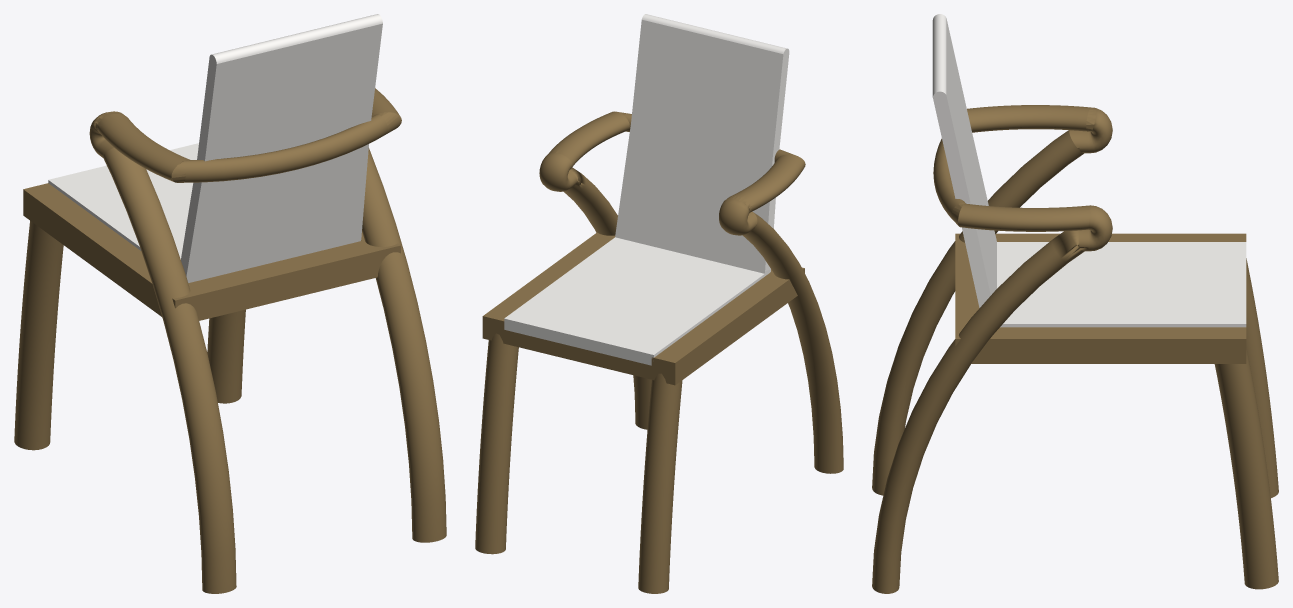
3 renders of one model, left to right at view 1: azimuth 30°, elevation 25°; view 2: azimuth 150°, elevation 25°; view 3: azimuth 270°, elevation 25°, orthographic. The views are drawn at different scales.
Parts seen in each view (by area): view 1: Mesh25_Component_30_1_Component_32_1_Model; view 2: Mesh25_Component_30_1_Component_32_1_Model; view 3: Mesh25_Component_30_1_Component_32_1_Model.
Part boxes in pixels (x1,y1,x2,y2): Mesh25_Component_30_1_Component_32_1_Model: (14,14,446,593); Mesh25_Component_30_1_Component_32_1_Model: (475,14,843,593); Mesh25_Component_30_1_Component_32_1_Model: (872,14,1278,593).
Bounding box in the file's own units: 0.5083 × 0.746 × 0.9825.
